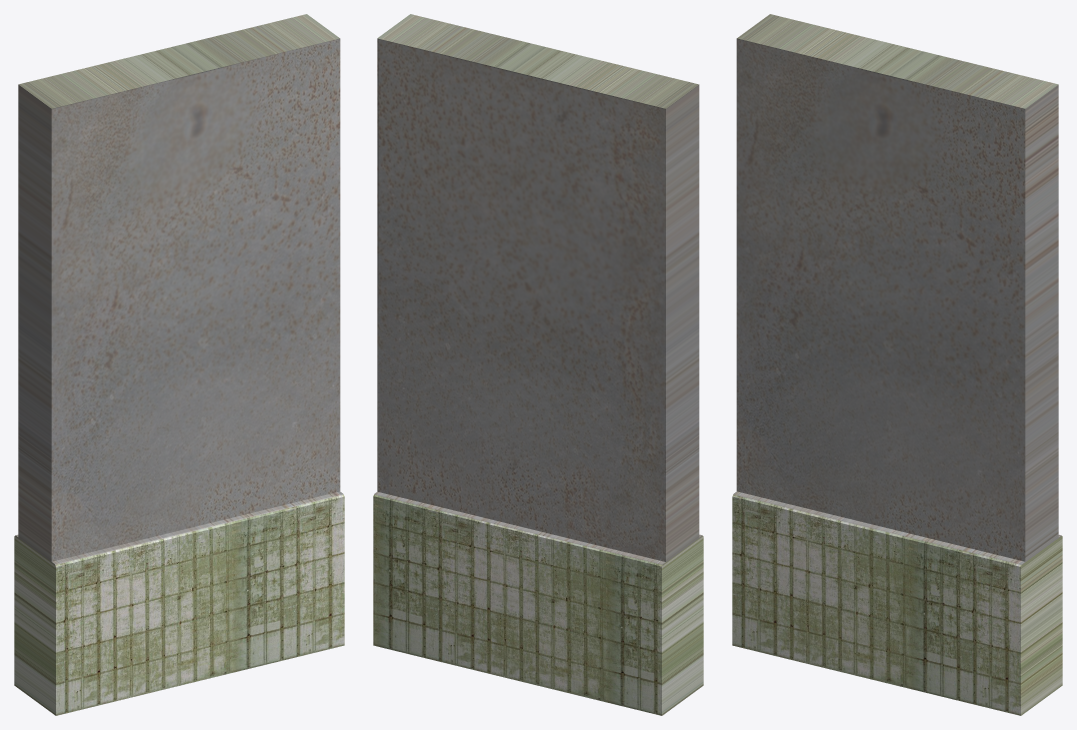
File: modular_wall.fbx
3 views of the same model, side by side, from view 1: azimuth 30°, elevation 25°; view 2: azimuth 150°, elevation 25°; view 3: azimuth 330°, elevation 25° (orthographic).
Visible parts, largest first — view 1: modular_wall_Mesh; view 2: modular_wall_Mesh; view 3: modular_wall_Mesh.
Part boxes in pixels (x1,y1,x2,y2): modular_wall_Mesh: [14, 14, 344, 715]; modular_wall_Mesh: [373, 14, 703, 715]; modular_wall_Mesh: [732, 14, 1062, 715].
Size of the model in its own units: 250 by 500 by 62.24.
1 material, 1 textured.
